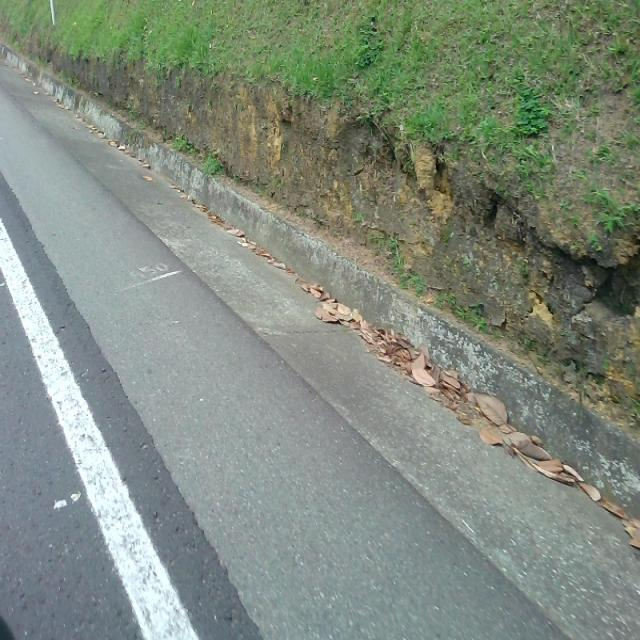DITCH: (2, 34, 638, 637), (1, 48, 638, 638)
